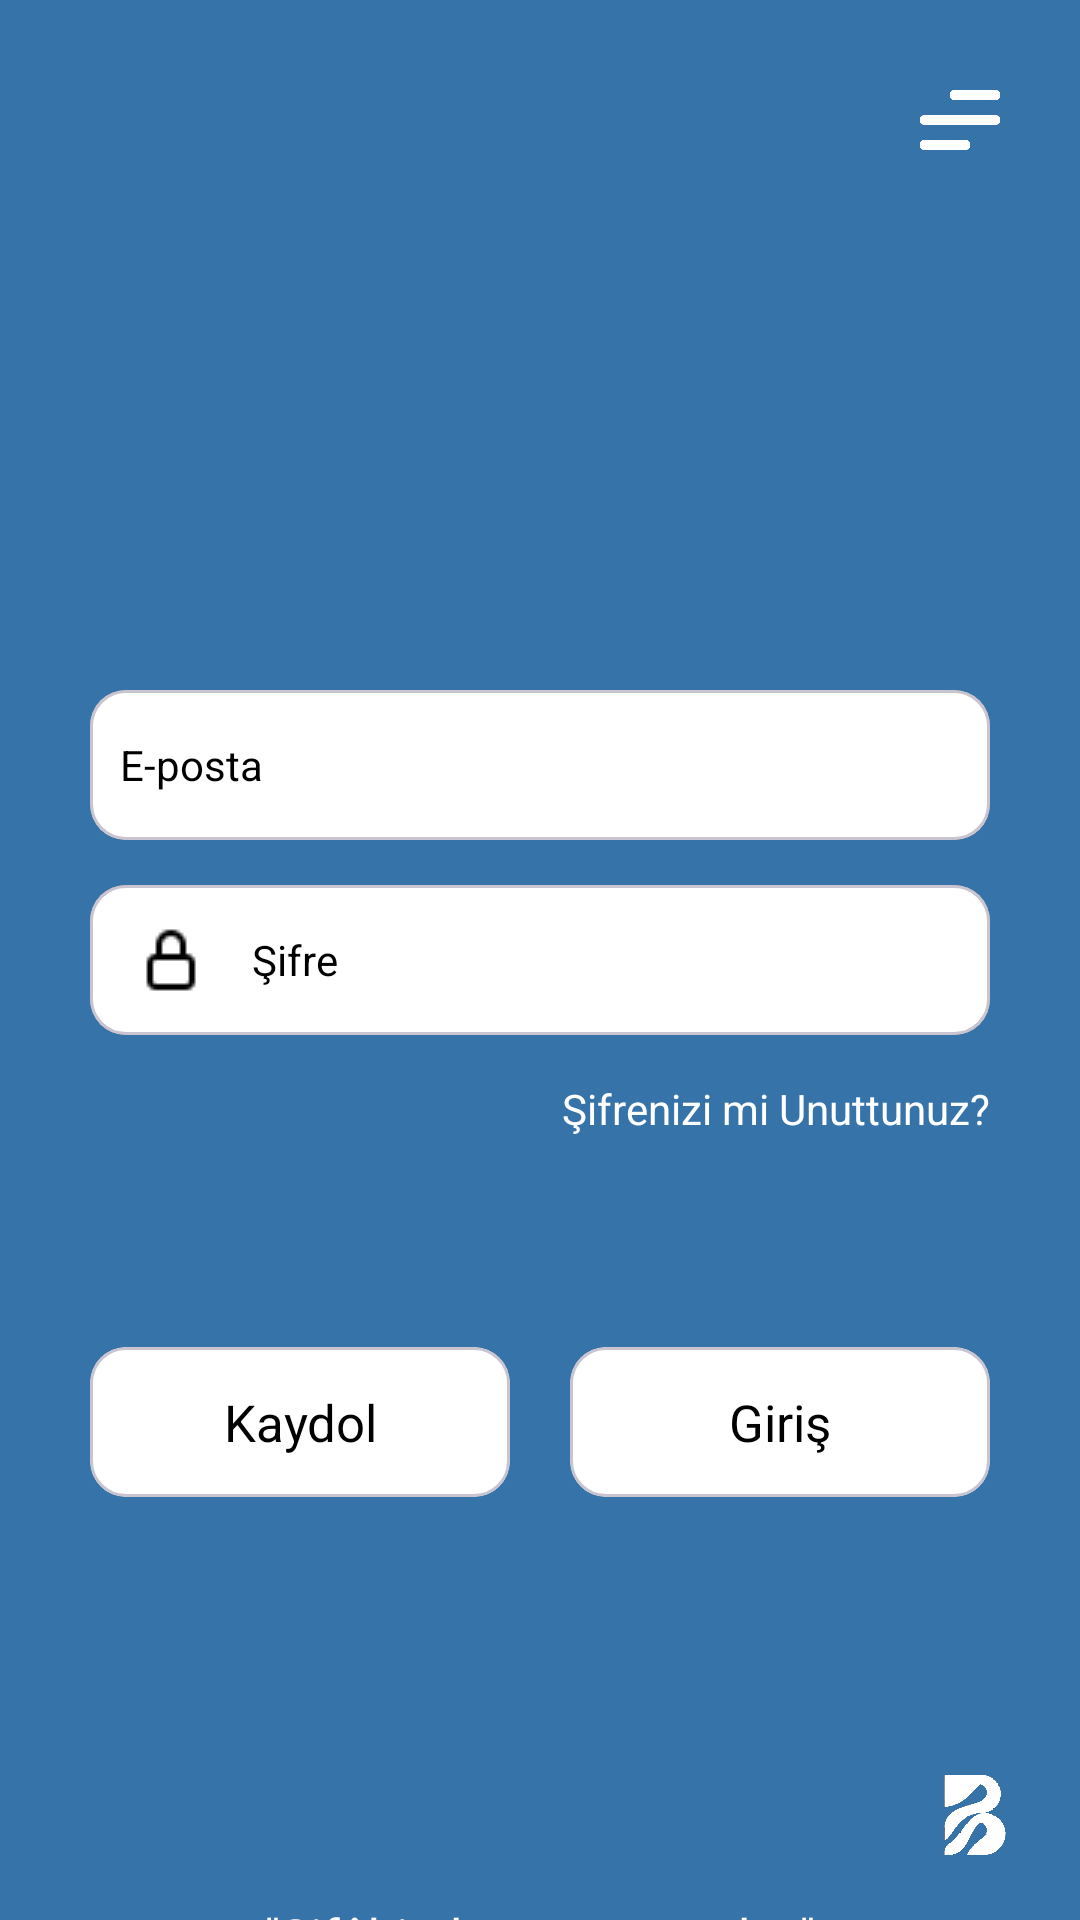

Icons on this 1080px x 1920px Android screen, each with its box as bbox=(x1, y1, x2, y2):
mnue: bbox=(920, 90, 1000, 150)
